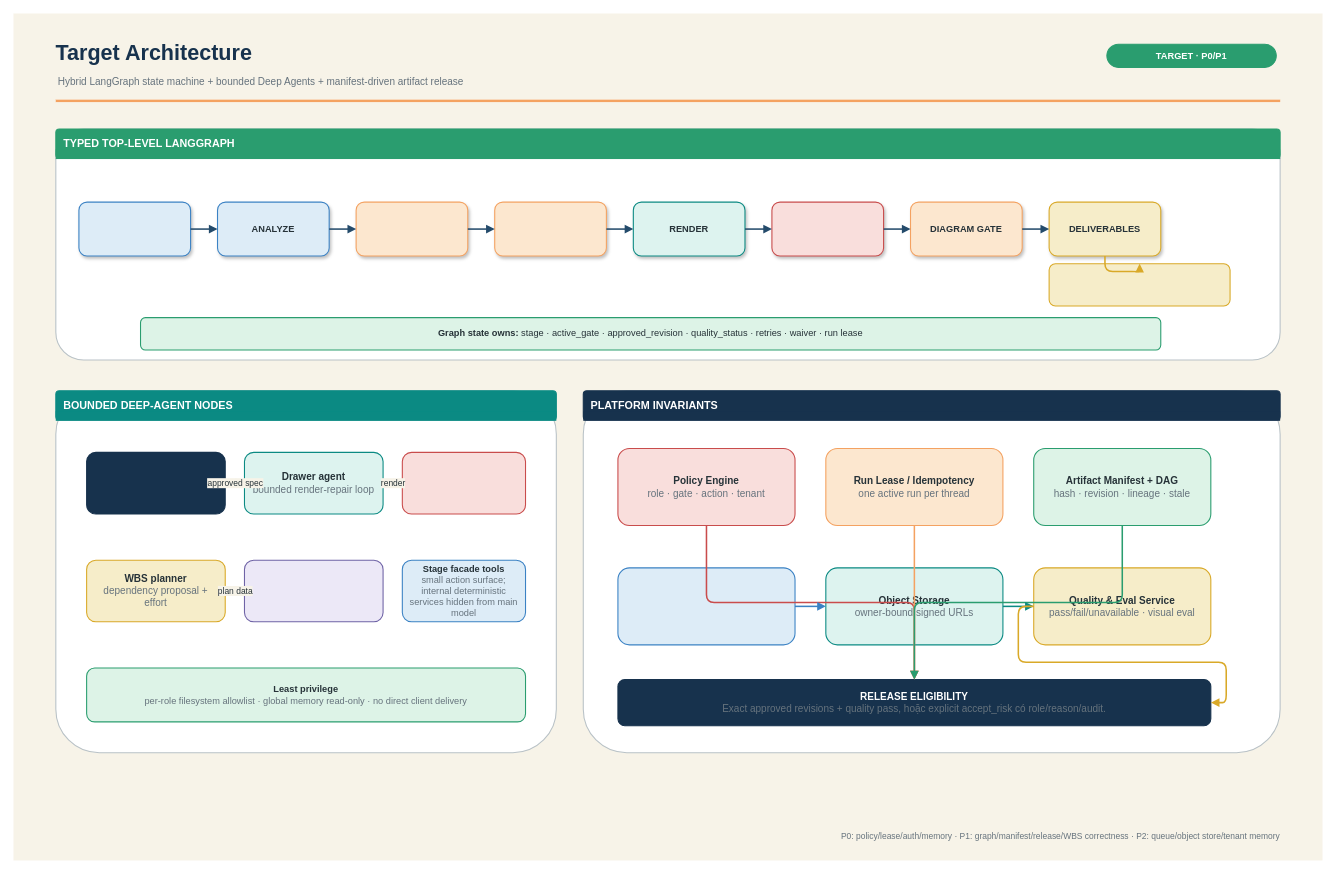
Some shapes in this 1335 by 873 pixel diagram are drawn without their labels. The centre of each missing label's shape, as x and y in pixels:
"Architect agent open-ended analysis / options" belongs at pixel 155 482.
"BLUEPRINT GATE" belongs at pixel 551 230.
"Critic agent read-only review" belongs at pixel 463 482.
"Deck / BRD writers structured draft contracts" belongs at pixel 313 590.
"INTAKE" belongs at pixel 135 230.
"Job Queue / Workers render · deck · report retries" belongs at pixel 706 606.
"QUALITY GATE" belongs at pixel 828 230.
"TECH GATE" belongs at pixel 412 230.
"WBS · PDF · PPT · BRD parallel branches, each owns gate + release state" belongs at pixel 1139 284.
